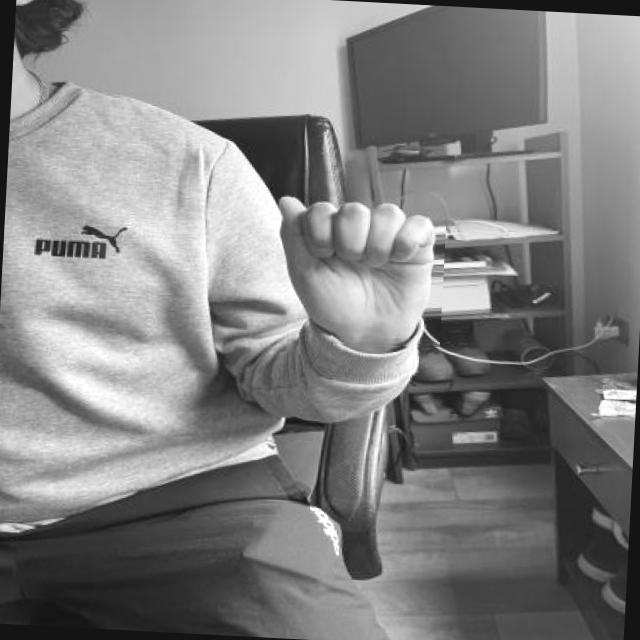A: (263, 184, 448, 352)
